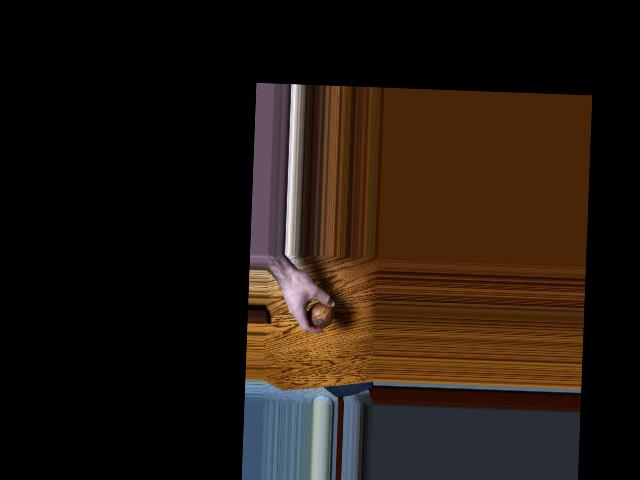onion: (303, 298, 333, 329)
